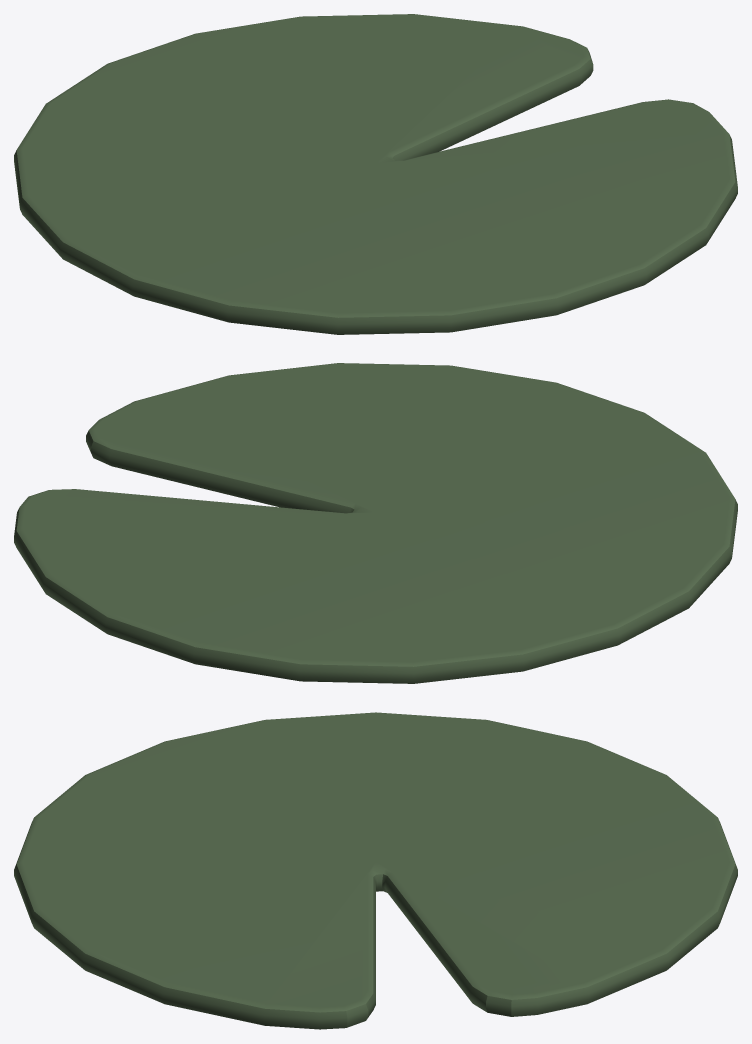
File: lilypad1.fbx
3 views of the same model, one above another, from view 1: azimuth 30°, elevation 25°; view 2: azimuth 150°, elevation 25°; view 3: azimuth 270°, elevation 25° (orthographic).
Parts seen in each view (by area): view 1: pCylinder3; view 2: pCylinder3; view 3: pCylinder3.
Boxes of the visible parts, x1=… form: pCylinder3: x1=14, y1=14, x2=737, y2=334; pCylinder3: x1=14, y1=363, x2=737, y2=683; pCylinder3: x1=14, y1=712, x2=737, y2=1029.
Size of the model in its own units: 18.72 by 0.6236 by 18.95.
